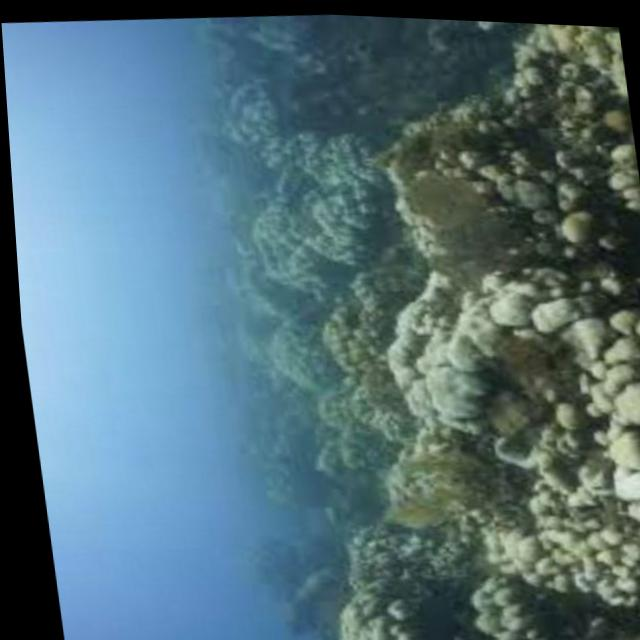Dead Coral: (297, 29, 640, 640)
